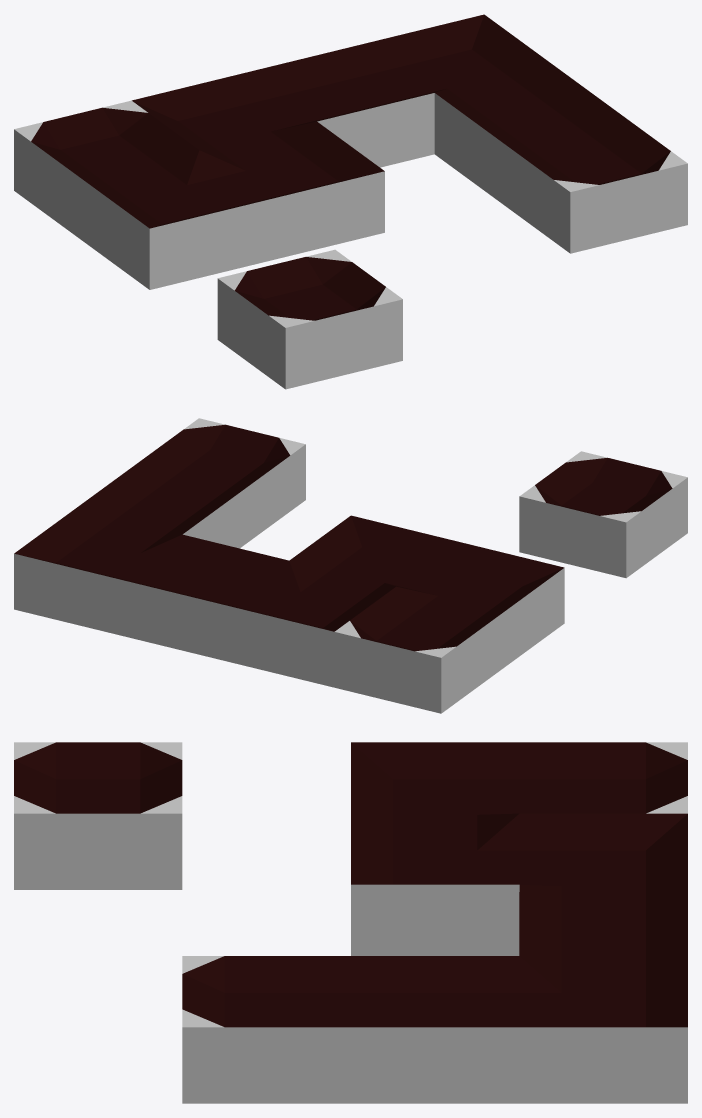
Rendered from 25f_path.obj.
3 renders of one model, top to bottom at view 1: azimuth 30°, elevation 25°; view 2: azimuth 150°, elevation 25°; view 3: azimuth 270°, elevation 25°, orthographic. The views are drawn at different scales.
Parts seen in each view (by area): view 1: foil.hole.0.0_Cube.201, foil.ending.3.1_ending.400, foil.corner.0.2_corner.995, foil.corner.1.2_corner.996, foil.ending.0.3_ending.399, foil.through.2.3_through.201, foil.through.3.2_through.202, foil.corner.3.3_corner.998, foil.corner.1.3_corner.997; view 2: foil.hole.0.0_Cube.201, foil.ending.0.3_ending.399, foil.through.2.3_through.201, foil.corner.3.3_corner.998, foil.ending.3.1_ending.400, foil.corner.1.3_corner.997, foil.corner.0.2_corner.995, foil.through.3.2_through.202, foil.corner.1.2_corner.996; view 3: foil.hole.0.0_Cube.201, foil.ending.3.1_ending.400, foil.through.3.2_through.202, foil.corner.3.3_corner.998, foil.corner.1.2_corner.996, foil.corner.1.3_corner.997, foil.corner.0.2_corner.995, foil.ending.0.3_ending.399, foil.through.2.3_through.201.
Boxes of the visible parts, box(x1,y1,x2,y2) form: foil.hole.0.0_Cube.201: box(217, 249, 402, 389); foil.ending.3.1_ending.400: box(502, 114, 687, 253); foil.corner.0.2_corner.995: box(82, 150, 267, 289); foil.corner.1.2_corner.996: box(200, 122, 384, 261); foil.ending.0.3_ending.399: box(14, 100, 198, 240); foil.through.2.3_through.201: box(249, 43, 434, 167); foil.through.3.2_through.202: box(434, 64, 619, 203); foil.corner.3.3_corner.998: box(367, 14, 551, 100); foil.corner.1.3_corner.997: box(132, 72, 316, 158); foil.hole.0.0_Cube.201: box(519, 451, 687, 578); foil.ending.0.3_ending.399: box(334, 587, 502, 713); foil.through.2.3_through.201: box(120, 534, 288, 661); foil.corner.3.3_corner.998: box(14, 508, 181, 635); foil.ending.3.1_ending.400: box(137, 418, 305, 544); foil.corner.1.3_corner.997: box(227, 561, 394, 687); foil.corner.0.2_corner.995: box(396, 541, 564, 668); foil.through.3.2_through.202: box(76, 463, 244, 548); foil.corner.1.2_corner.996: box(289, 515, 457, 593); foil.hole.0.0_Cube.201: box(14, 742, 182, 889); foil.ending.3.1_ending.400: box(182, 956, 350, 1103); foil.through.3.2_through.202: box(351, 956, 519, 1103); foil.corner.3.3_corner.998: box(519, 956, 687, 1103); foil.corner.1.2_corner.996: box(351, 814, 519, 955); foil.corner.1.3_corner.997: box(519, 813, 687, 903); foil.corner.0.2_corner.995: box(351, 742, 519, 832); foil.ending.0.3_ending.399: box(519, 742, 687, 813); foil.through.2.3_through.201: box(519, 885, 687, 974).
Size of the model in its own units: 8 by 1 by 8.
